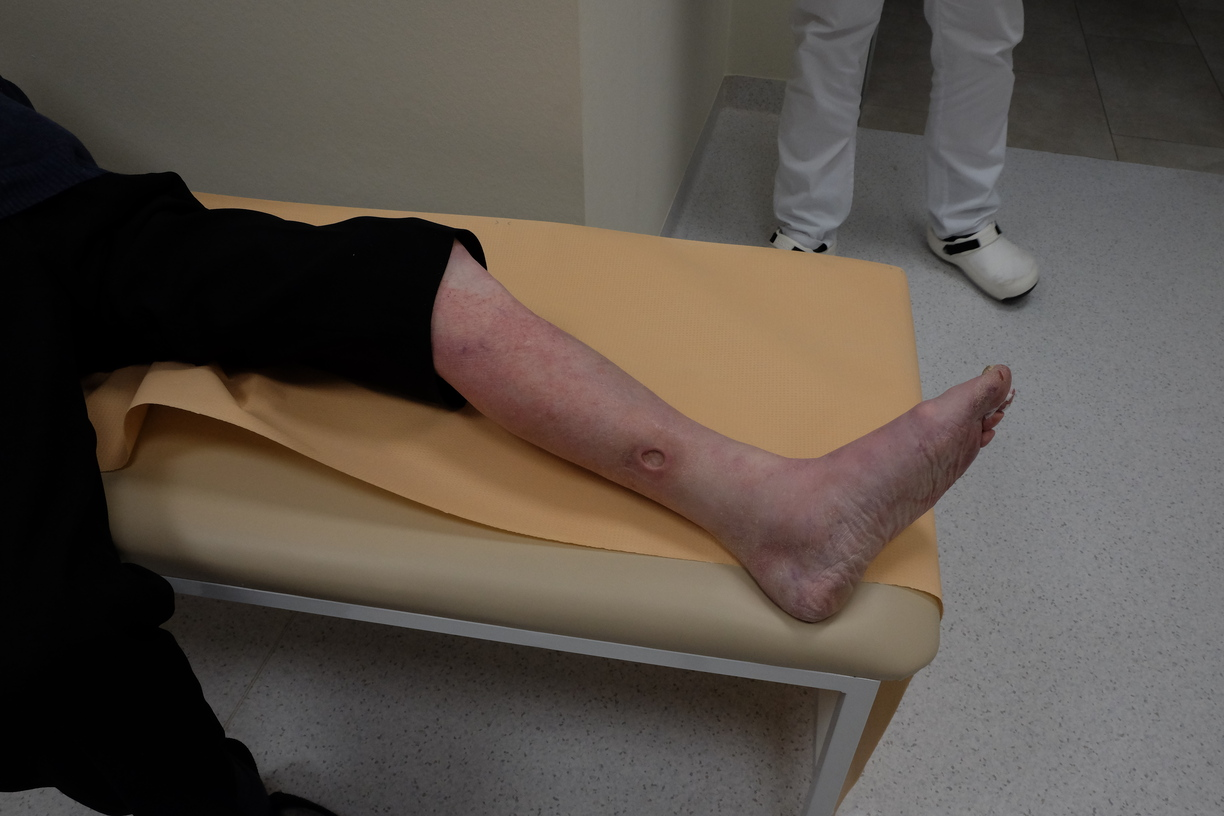wound: (634, 443, 672, 472)
